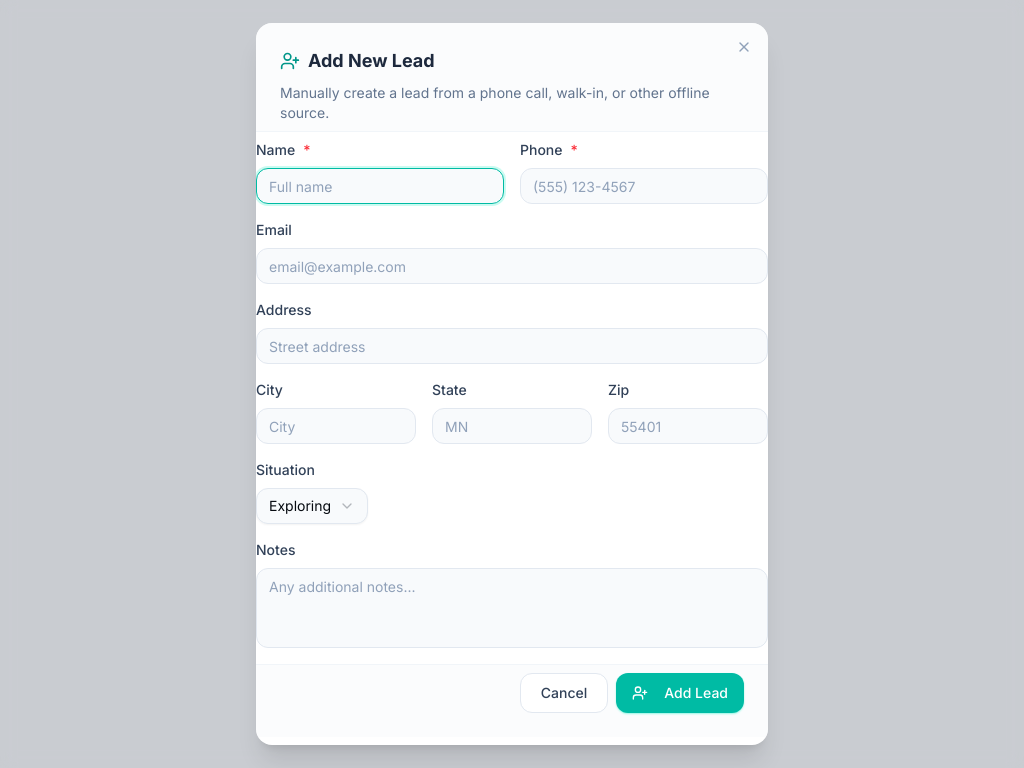
CreateLeadDialog › shows validation errors when submitting empty required fields
Click the button with test id "create-lead-submit": (680, 693) [616,673,744,713]
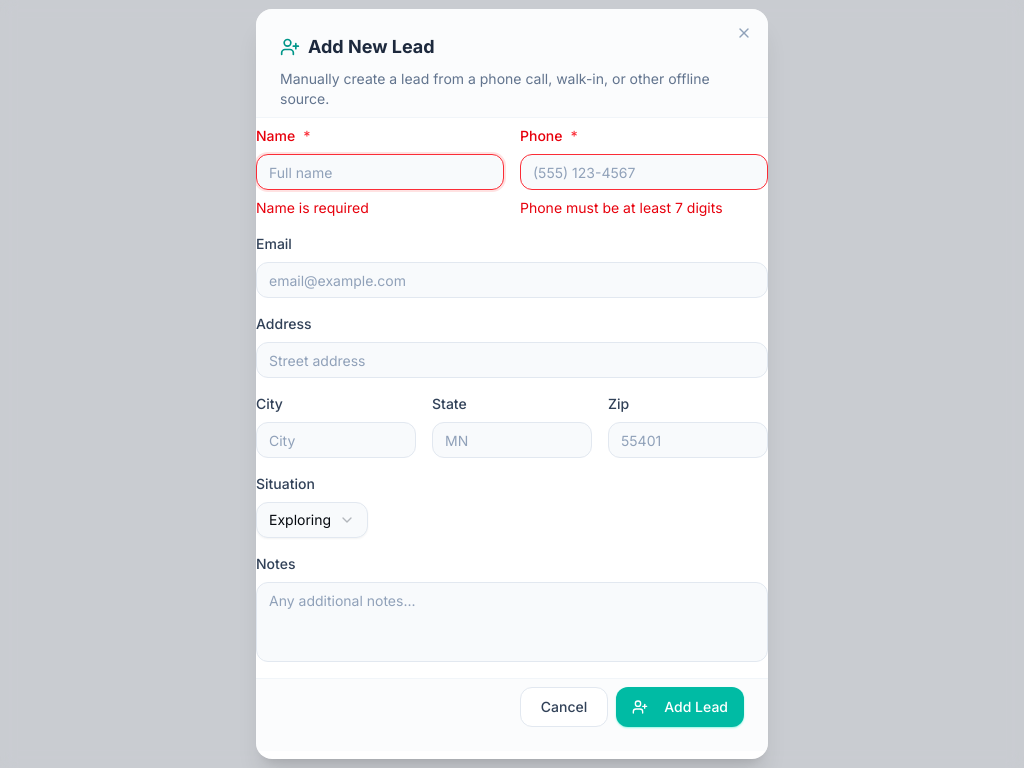
Now the text "Name is required" is shown, box [256,199,369,216]
